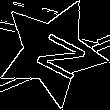N_NW: (20, 23, 84, 82)
